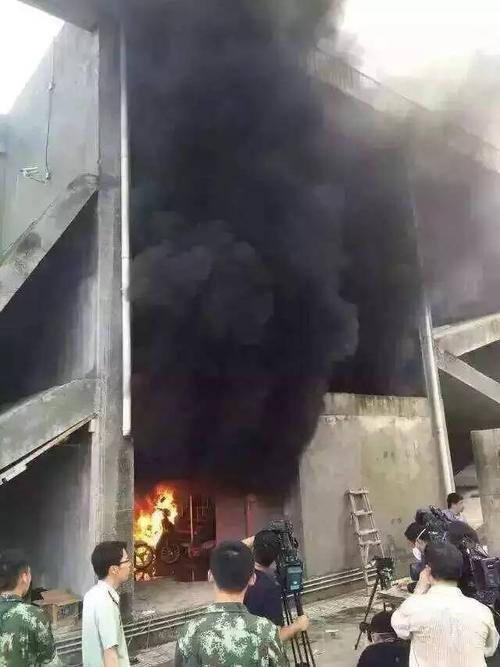fire: (121, 483, 202, 592)
smoke: (127, 17, 397, 461)
